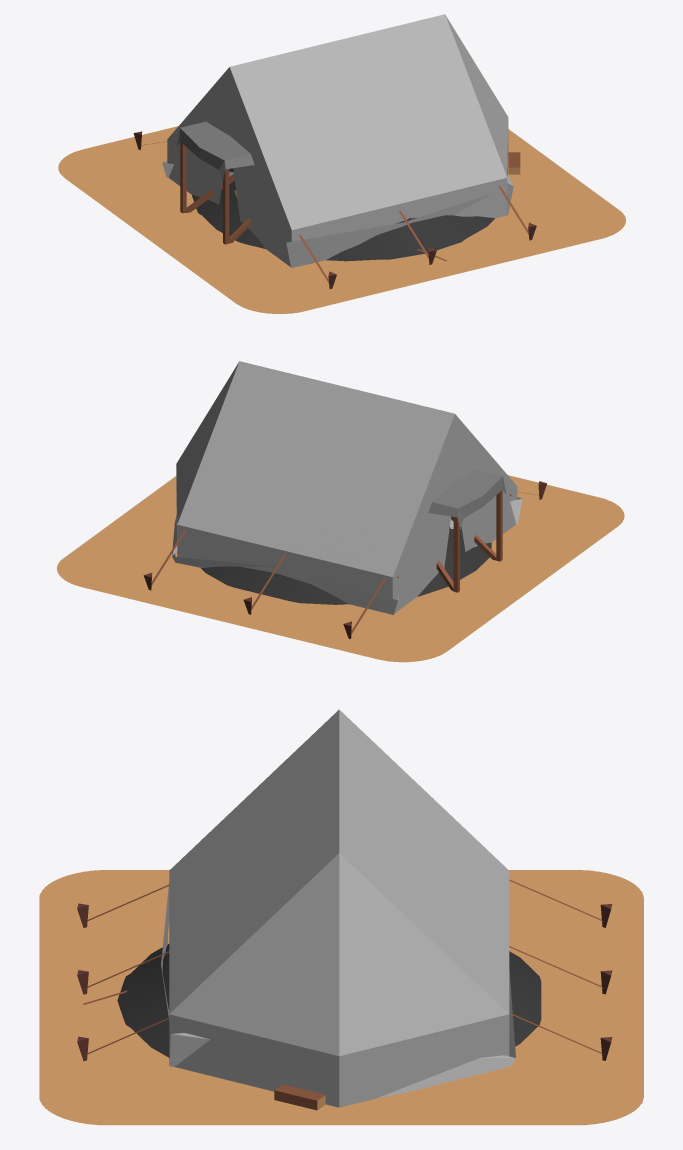
Rendered from Big Tent.fbx.
The picture shows the model from 3 angles, top to bottom: view 1: azimuth 30°, elevation 25°; view 2: azimuth 150°, elevation 25°; view 3: azimuth 270°, elevation 25°; orthographic projection. The views are drawn at different scales.
Parts seen in each view (by area): view 1: First_Floor, Ground, Destruction_phase_1, Ash, Destruction_phase_2; view 2: First_Floor, Ground, Destruction_phase_1, Ash, Destruction_phase_2; view 3: First_Floor, Ground, Ash, Destruction_phase_2.
Boxes of the visible parts, x1,y1,x2,y2 form: First_Floor: (133,14,536,288); Ground: (58,126,625,313); Destruction_phase_1: (291,34,506,240); Ash: (192,168,494,261); Destruction_phase_2: (162,145,520,267); First_Floor: (143,361,546,638); Ground: (57,475,624,662); Destruction_phase_1: (177,426,444,613); Ash: (201,527,491,604); Destruction_phase_2: (172,494,522,614); First_Floor: (77,709,612,1107); Ground: (39,870,643,1125); Ash: (117,944,541,1057); Destruction_phase_2: (83,882,515,1110).
Bounding box in the file's own units: 3.95 × 1.48 × 3.95.
Materials: 2 (1 with a texture image).
